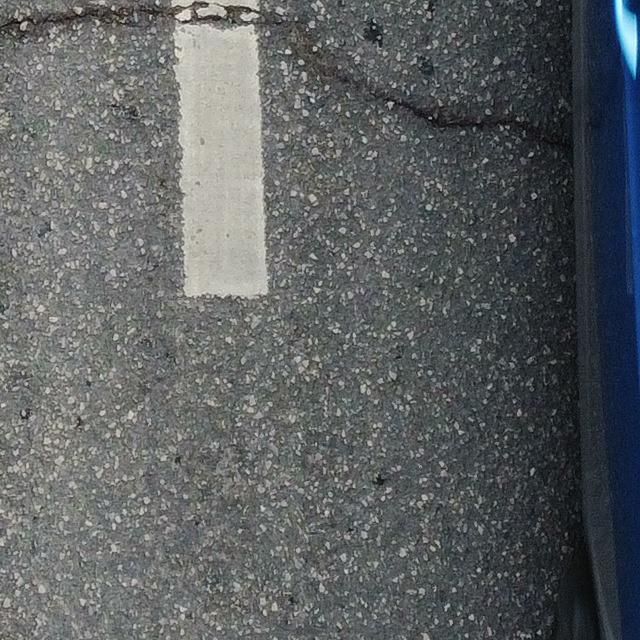TransverseCrack: (316, 68, 537, 134), (2, 7, 283, 28)
